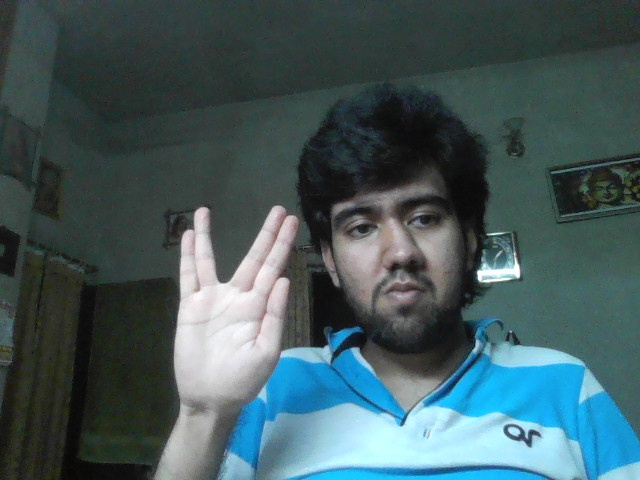LiveLong: (173, 205, 299, 408)
